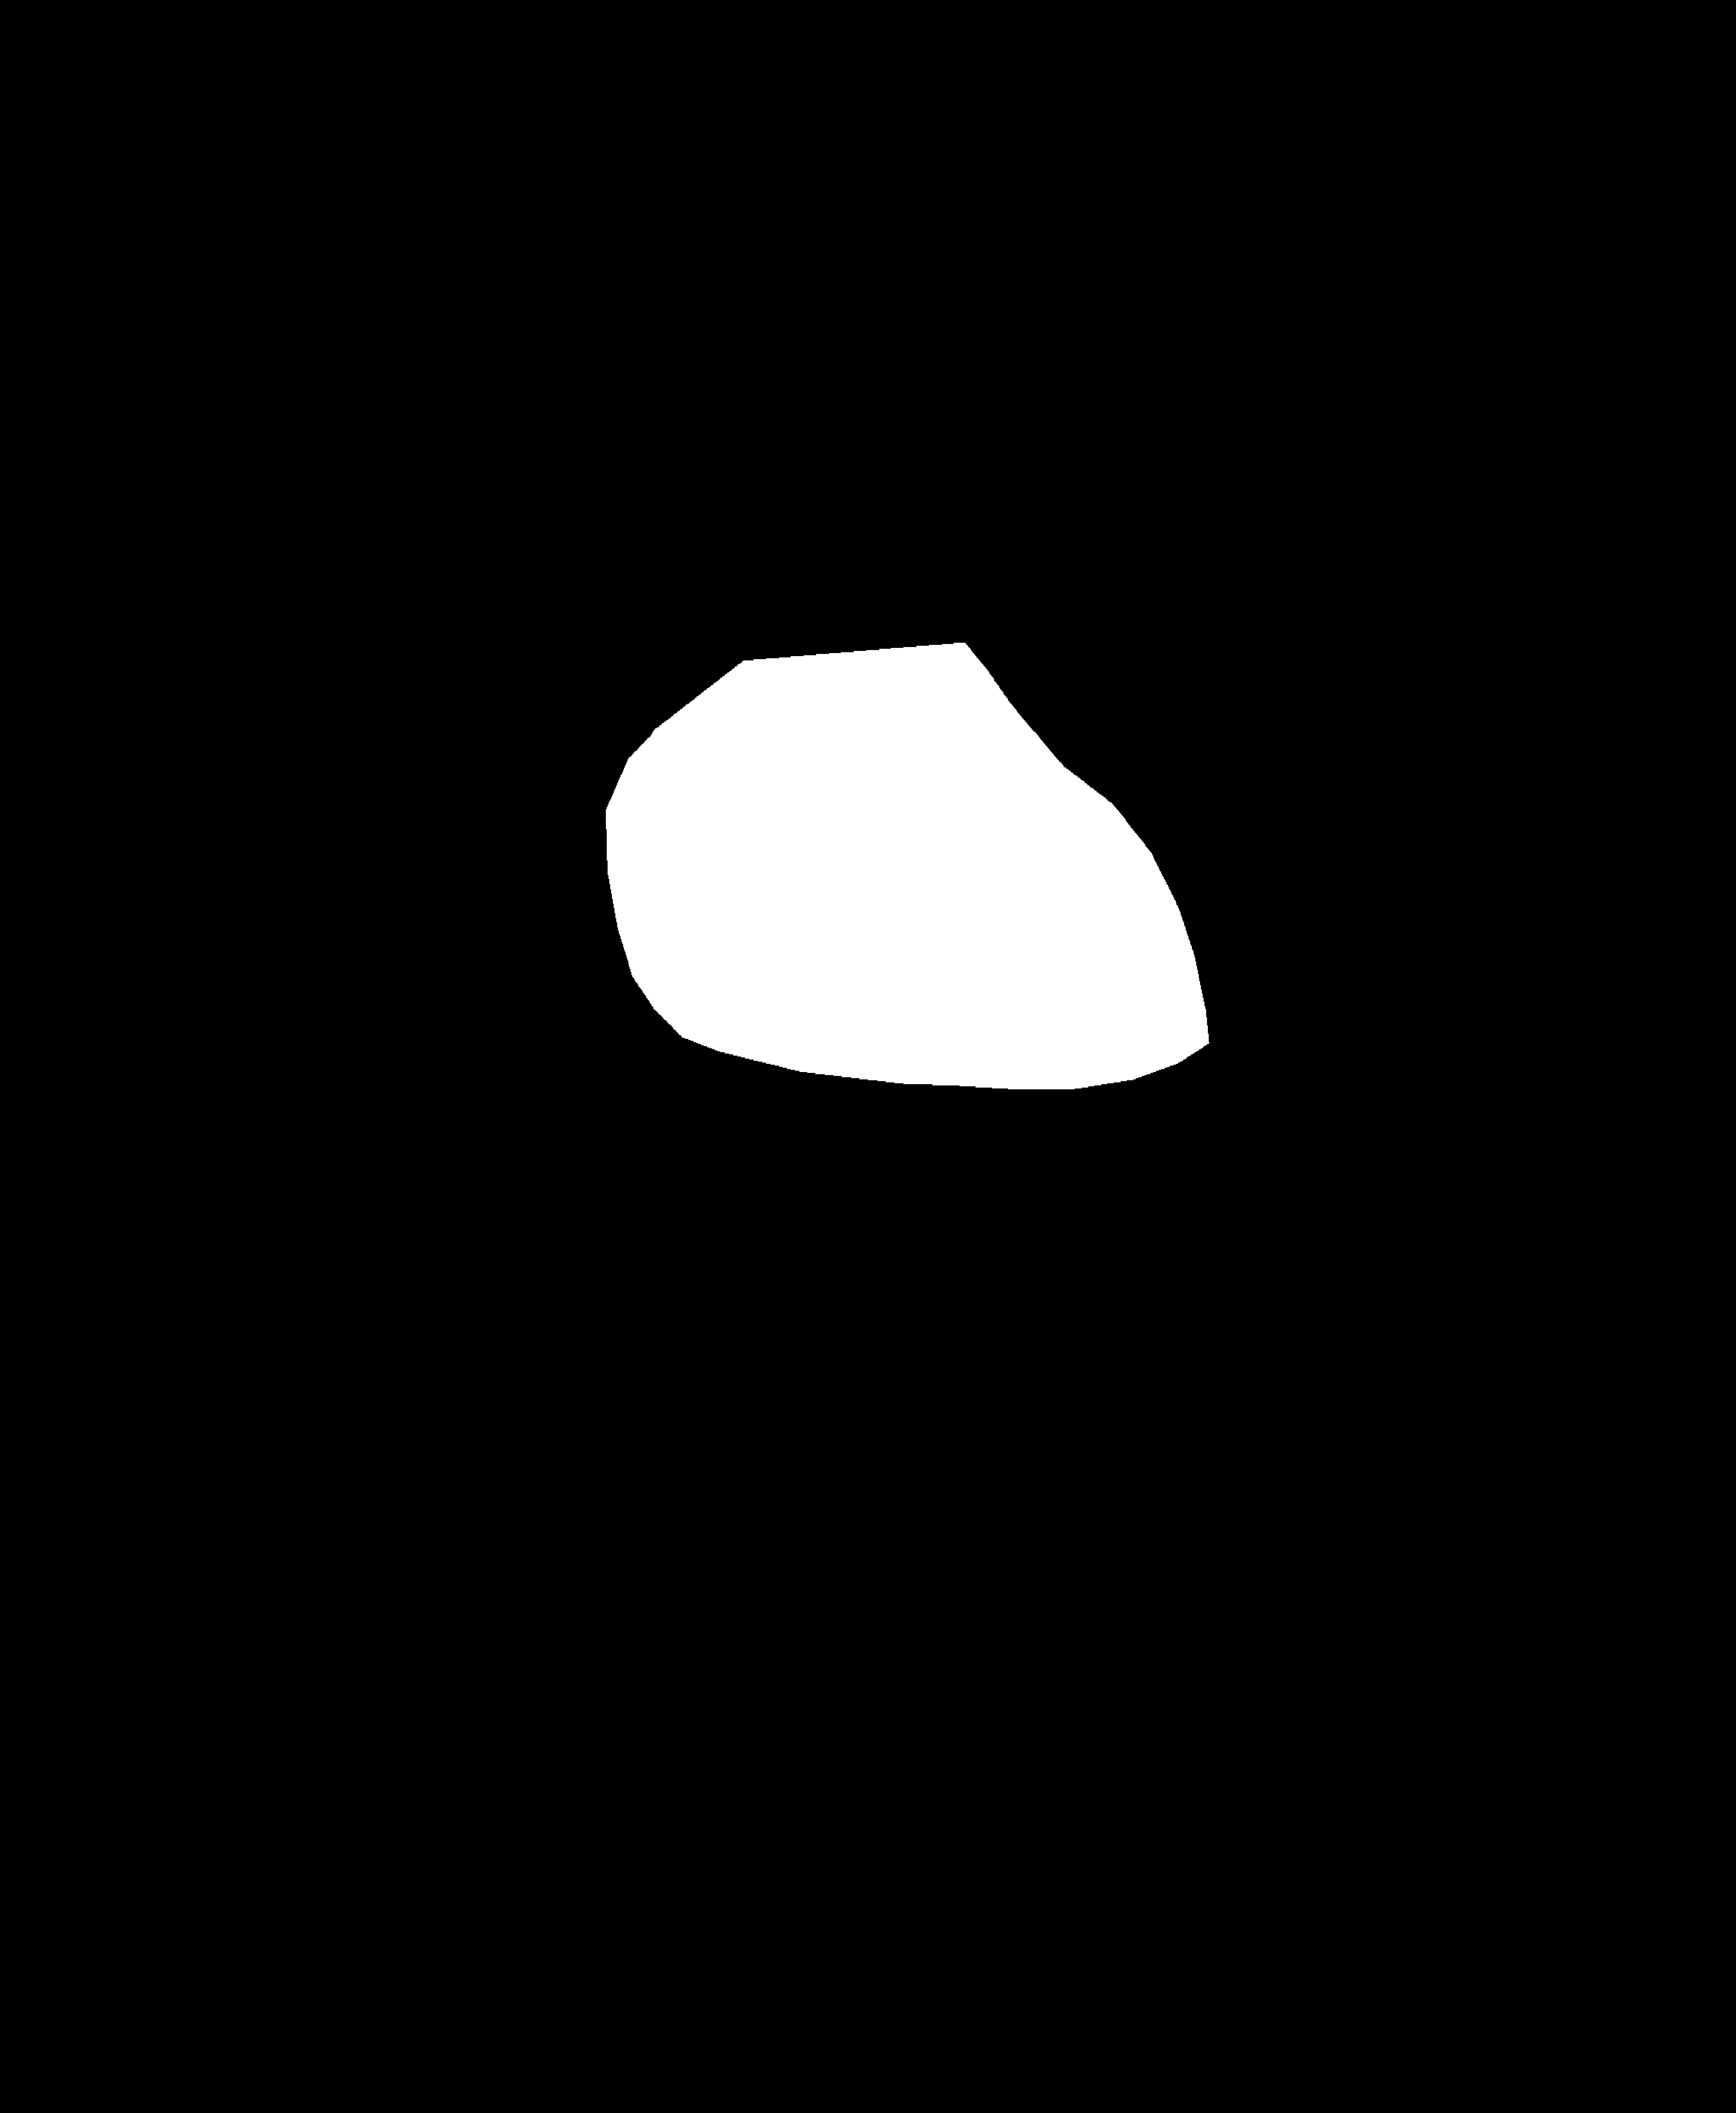heart: (592, 706, 1209, 1116)
left_lung: (179, 161, 772, 1169)
right_lung: (892, 181, 1439, 1165)
